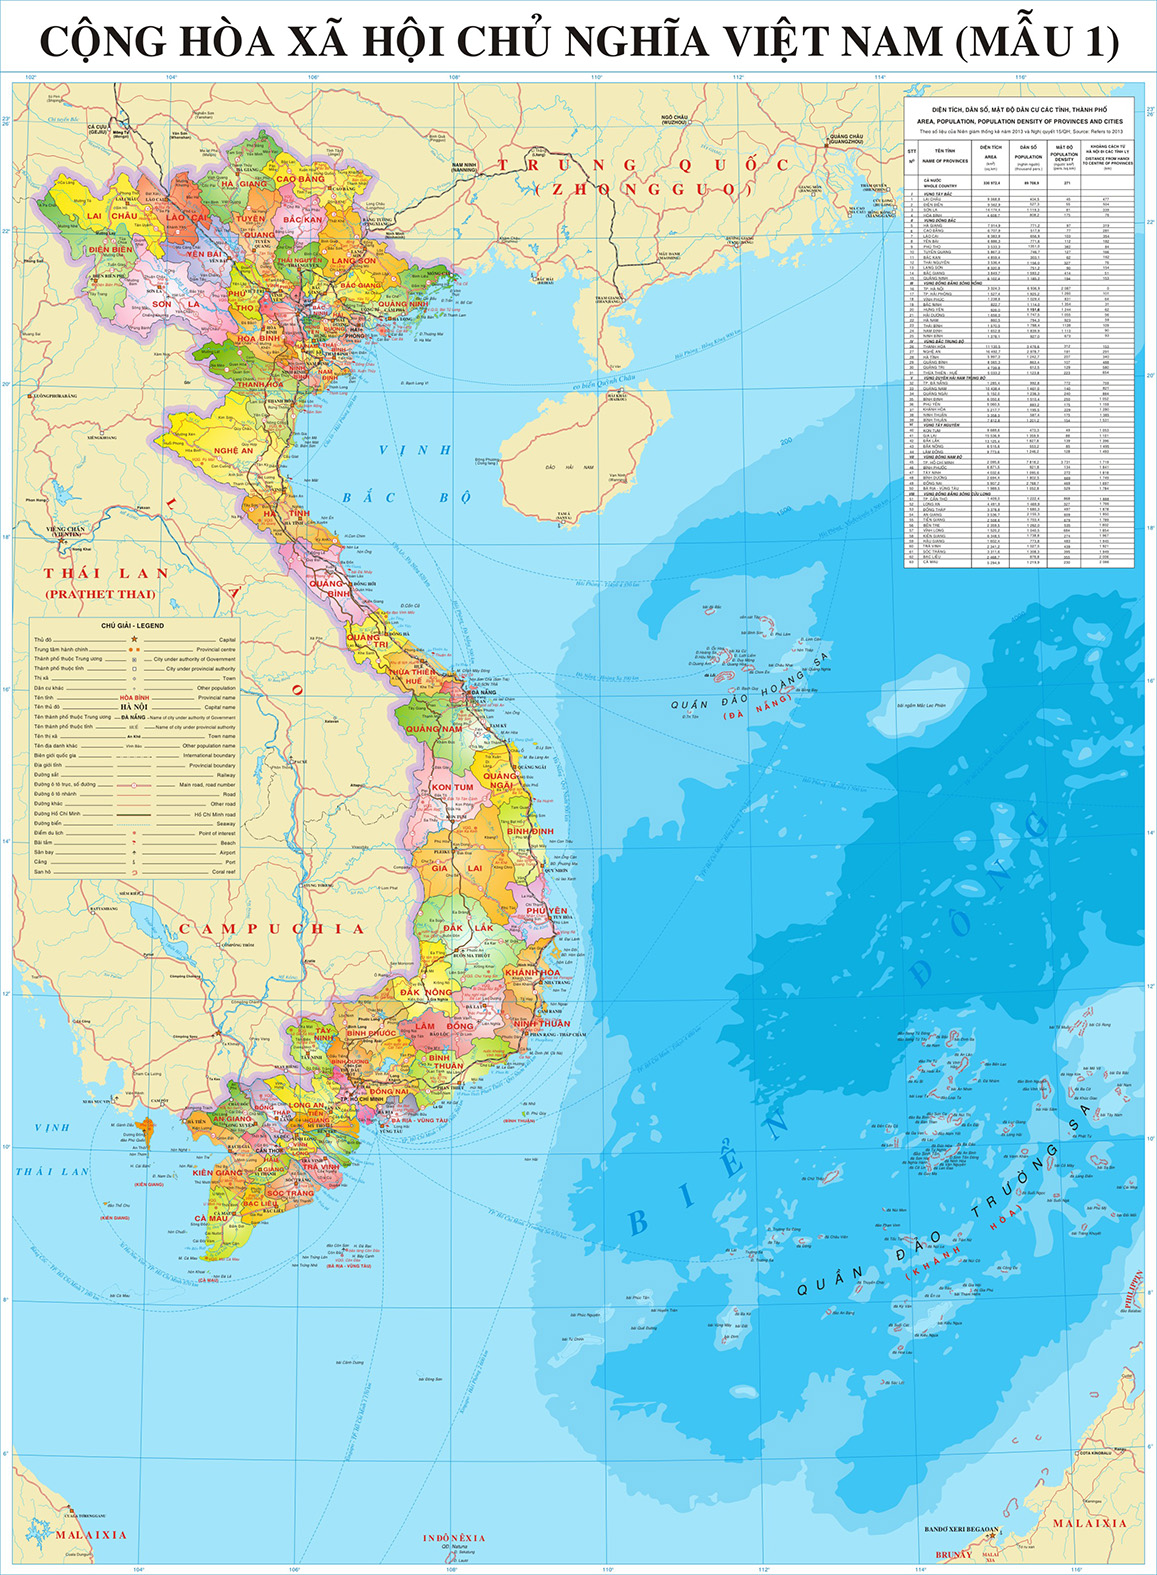Island: (725, 987, 1144, 1323), (642, 582, 844, 759)
